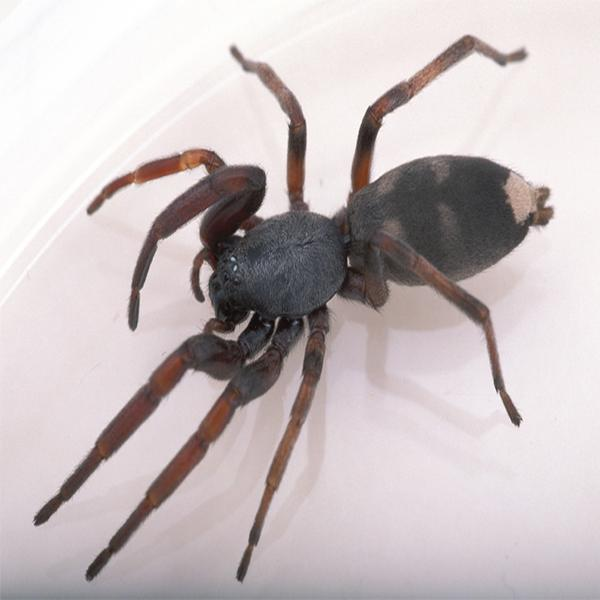White-Tailed Spider: (62, 49, 554, 573)
